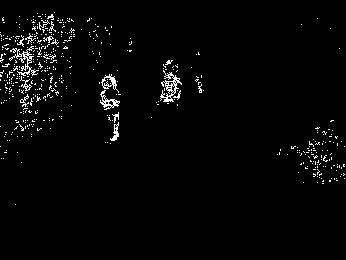person: (100, 74, 123, 142), (194, 50, 208, 95)
